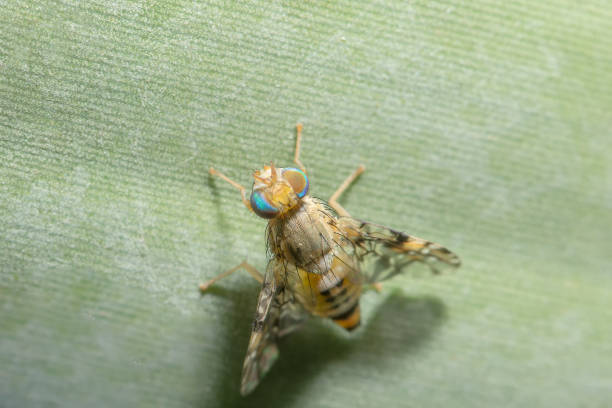Fruit fly: (172, 135, 476, 380)
